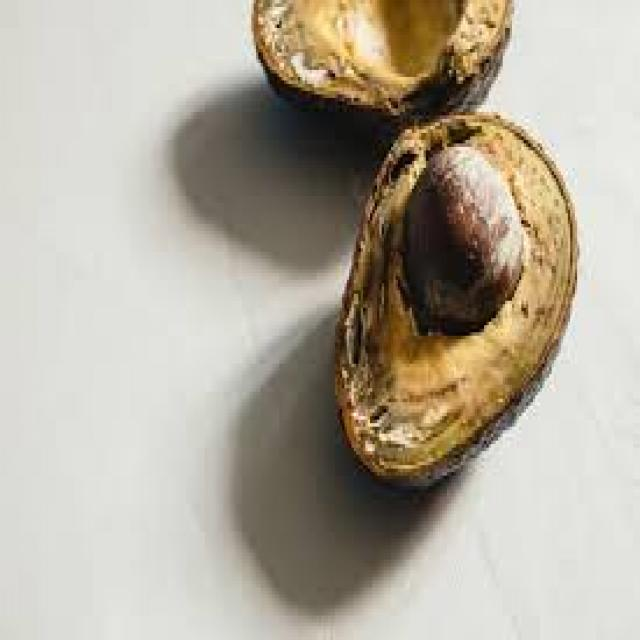organic waste: (328, 112, 577, 497), (247, 0, 512, 140), (401, 136, 522, 332)
